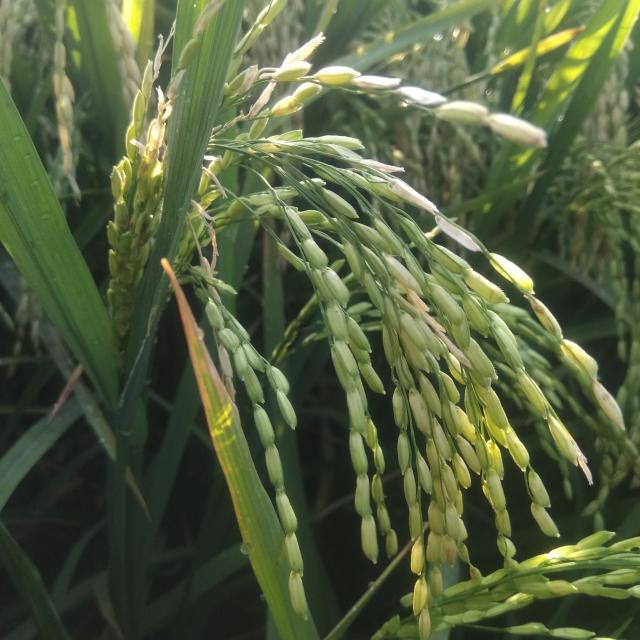Brown spot: (156, 257, 242, 436), (42, 362, 84, 430)
insects: (271, 558, 282, 572)
